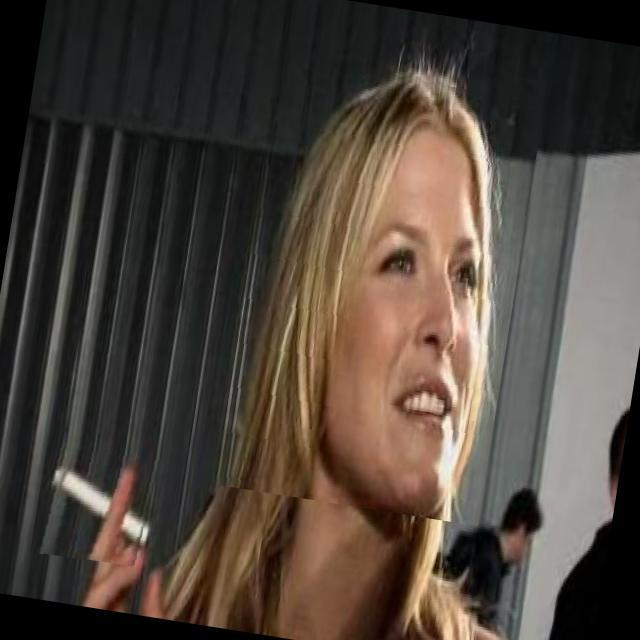cigarette: (30, 440, 162, 571)
